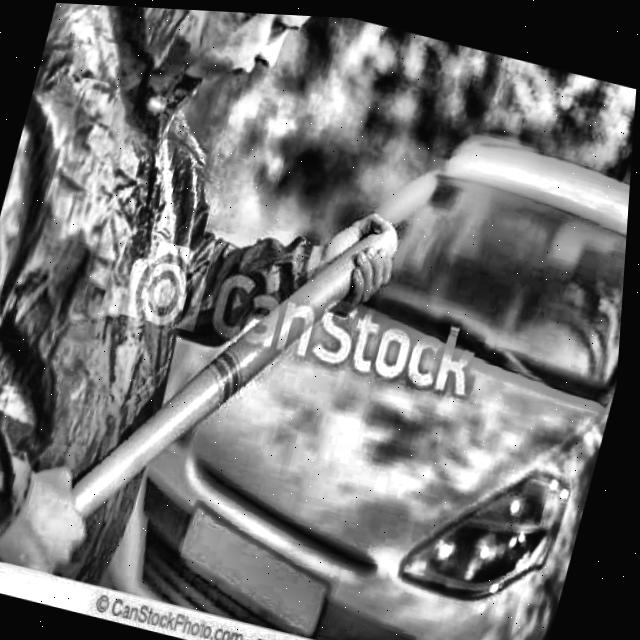tongkat pemukul: (0, 210, 409, 574)
